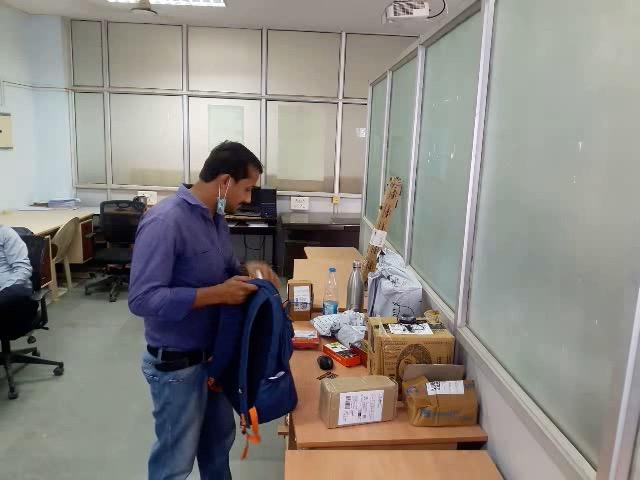shoplifting: (133, 224, 391, 428)
